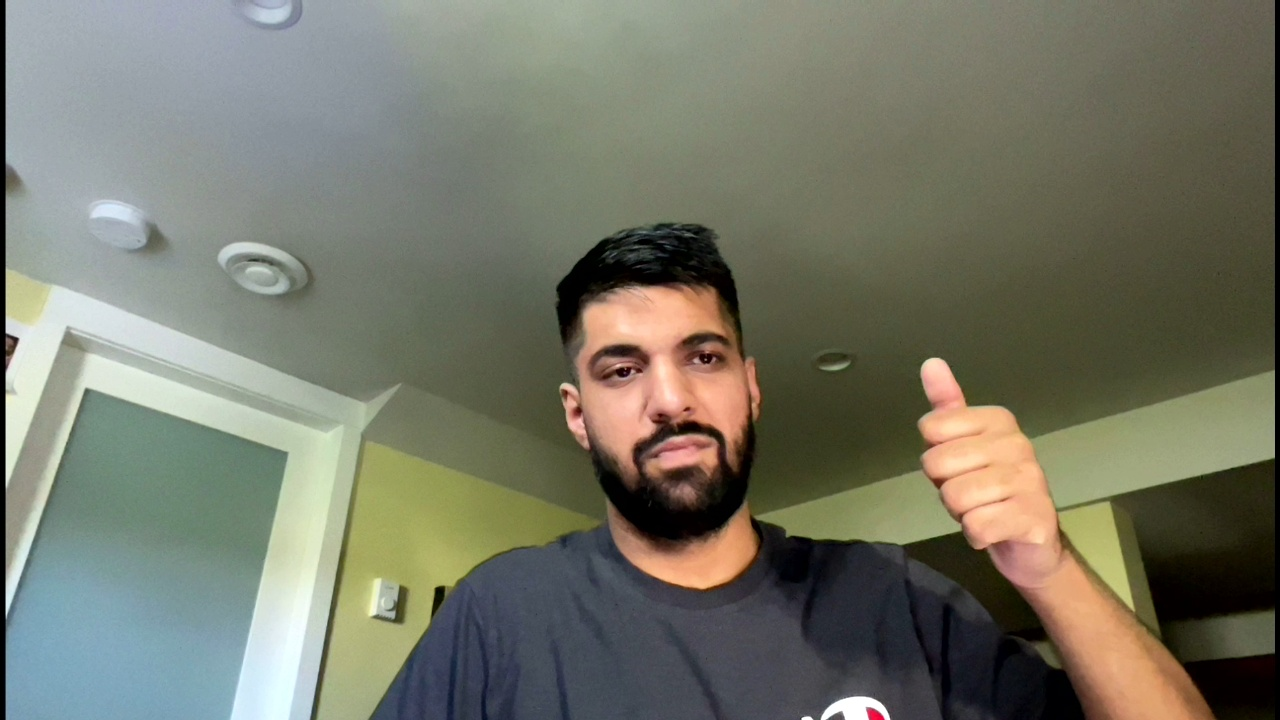Yes: (894, 352, 1073, 564)
